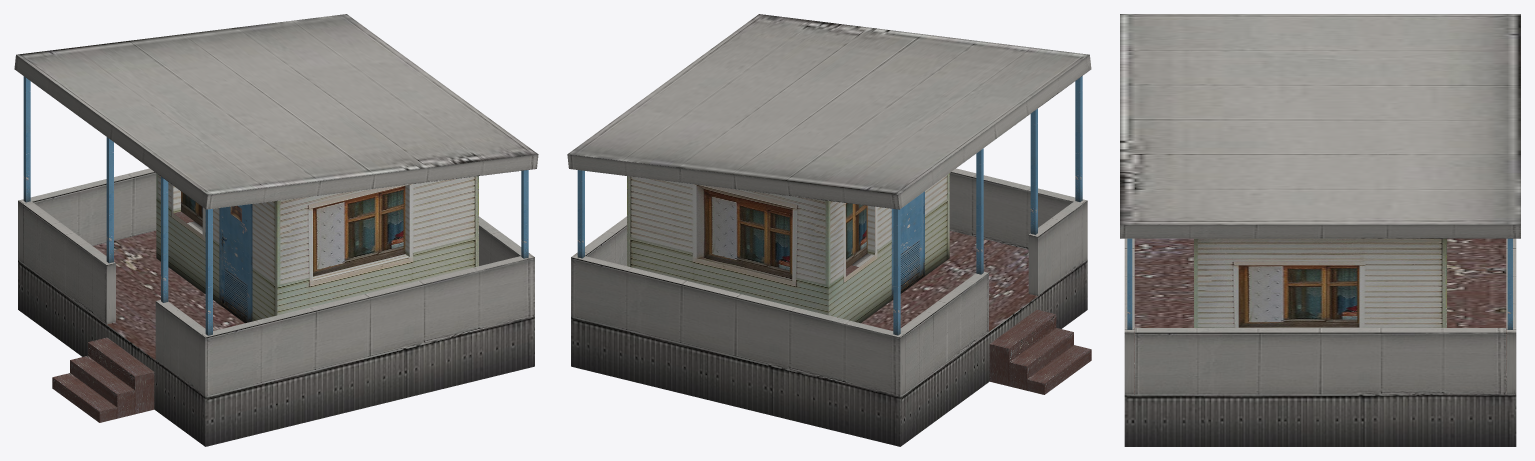
The model's file is omsk_pereezd_budka2.FBX.
3 views of the same model, side by side, from view 1: azimuth 30°, elevation 25°; view 2: azimuth 150°, elevation 25°; view 3: azimuth 270°, elevation 25° (orthographic). The views are drawn at different scales.
Visible parts, largest first — view 1: omsk_pereezd_budka2; view 2: omsk_pereezd_budka2; view 3: omsk_pereezd_budka2.
Part boxes in pixels (bbox=[...]): omsk_pereezd_budka2: bbox=[14, 14, 538, 446]; omsk_pereezd_budka2: bbox=[567, 14, 1091, 446]; omsk_pereezd_budka2: bbox=[1120, 14, 1520, 446].
Size of the model in its own units: 6.43 by 5.54 by 4.04.
